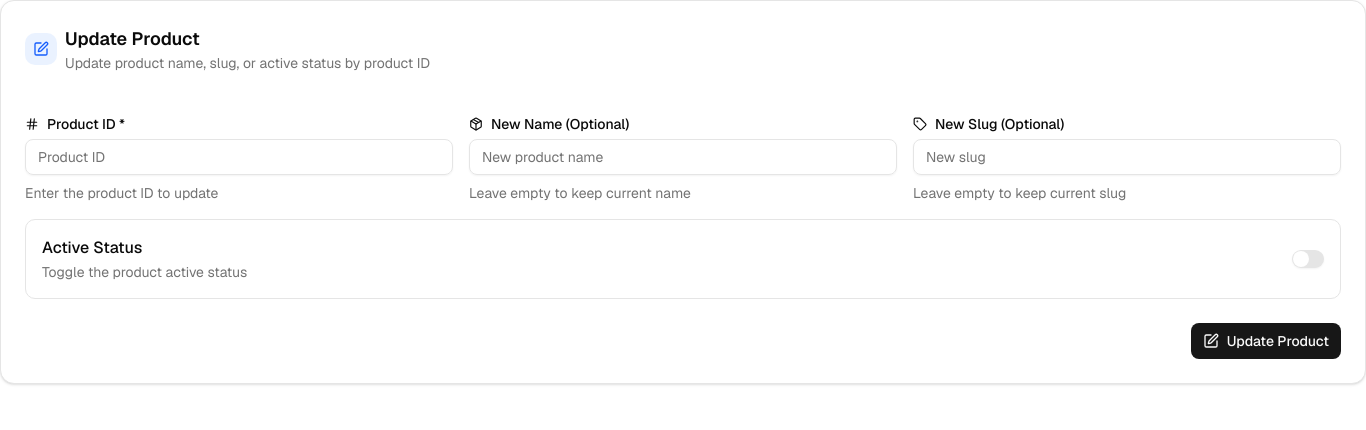
Scenario: UpdateProductForm › requires ID to submit
Click the button "Update Product": (1266, 341) [1191,323,1341,359]
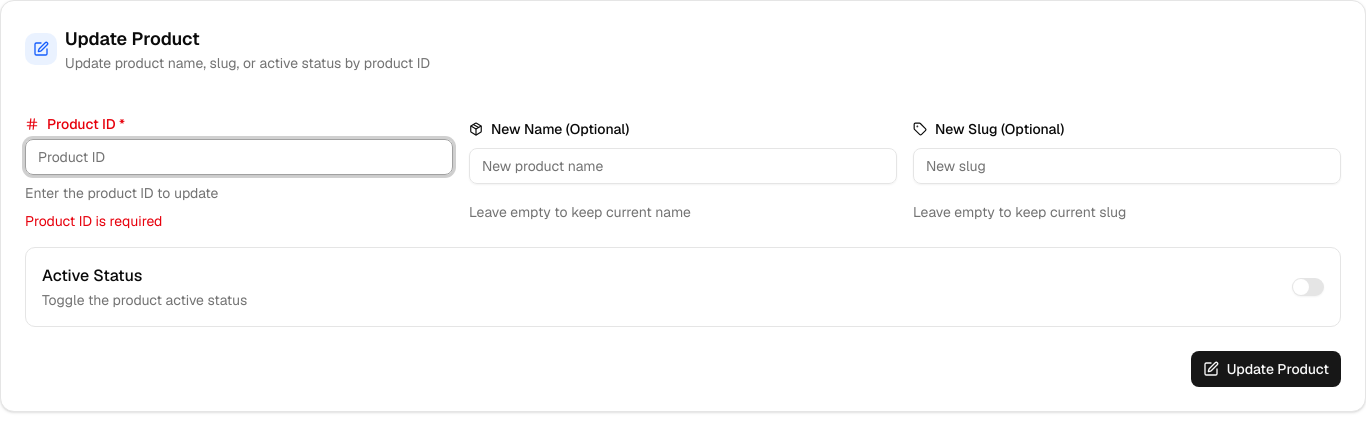
expect the text "Product ID is required" is shown: met, box [25,212,162,230]
